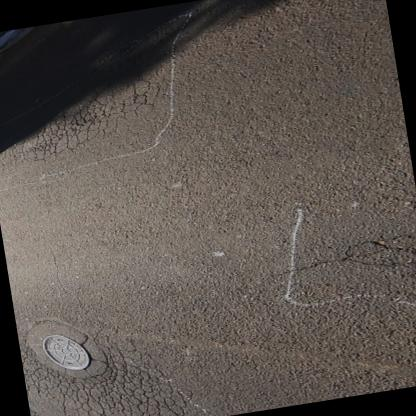manholes: (30, 320, 107, 378)
